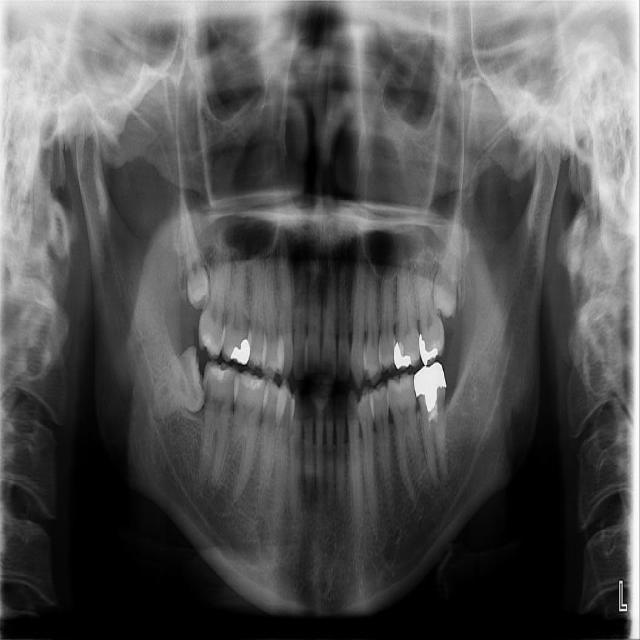3M ESPE Implant: (177, 192, 212, 310)
52: (196, 358, 244, 414), (227, 368, 272, 427), (409, 362, 452, 416), (194, 302, 229, 361), (217, 316, 256, 366), (419, 317, 445, 365), (393, 325, 420, 371), (203, 382, 213, 402)
73: (420, 408, 453, 487), (614, 564, 622, 572)
BioHorizons Implant: (413, 248, 446, 367)
BioLife Implant: (431, 202, 466, 318)
Blue Sky Bio Implant: (410, 360, 465, 488)
Caries: (195, 230, 236, 360)
Implant: (189, 358, 242, 488)
Keystone Dental Implant: (138, 345, 212, 421)
